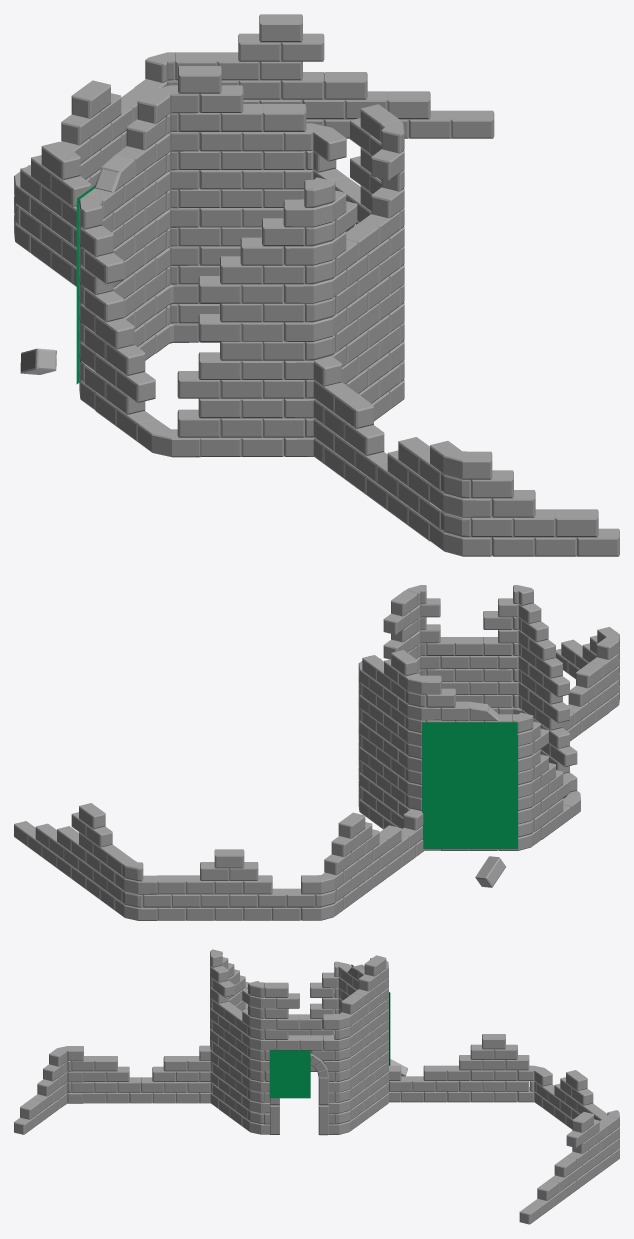
The model's file is TowerShapeTry2.fbx.
The picture shows the model from 3 angles, top to bottom: view 1: azimuth 30°, elevation 25°; view 2: azimuth 150°, elevation 25°; view 3: azimuth 270°, elevation 25°; orthographic projection. The views are drawn at different scales.
Visible parts, largest first — view 1: CornerStone (×21), pCube18 (×18), pCube21 (×15), pCube20 (×13), pCube22 (×14), pCube19 (×12), CornerStone2 (×2), pCube32, pCube37, pCube36, pCube34, pCube29 (+2 smaller); view 2: mMossPlane, CornerStone (×10), pCube20 (×7), pCube19 (×5), pCube21 (×4), pCube22 (×4), pCube18 (×2), pCube29, pCube32; view 3: CornerStone (×7), mMossPlane1, pCube20, pCube19, pCube21.
Part boxes in pixels (x1,y1,x2,y2): CornerStone (×21): [79, 85, 492, 556]; pCube18 (×18): [52, 72, 535, 556]; pCube21 (×15): [41, 52, 555, 537]; pCube20 (×13): [61, 14, 598, 537]; pCube22 (×14): [178, 66, 513, 537]; pCube19 (×12): [95, 33, 576, 556]; CornerStone2 (×2): [145, 52, 335, 207]; pCube32: [71, 80, 110, 118]; pCube37: [281, 33, 324, 61]; pCube36: [281, 72, 324, 99]; pCube34: [577, 528, 619, 556]; pCube29: [20, 348, 56, 374]; mMossPlane: [422, 722, 517, 848]; CornerStone (×10): [115, 598, 619, 920]; pCube20 (×7): [79, 590, 577, 880]; pCube19 (×5): [157, 612, 595, 894]; pCube21 (×4): [258, 637, 602, 907]; pCube22 (×4): [200, 637, 454, 907]; pCube18 (×2): [186, 702, 498, 894]; pCube29: [475, 856, 506, 887]; pCube32: [214, 849, 244, 868]; CornerStone (×7): [49, 988, 552, 1086]; mMossPlane1: [269, 1050, 310, 1098]; pCube20: [264, 982, 288, 997]; pCube19: [423, 1065, 447, 1080]; pCube21: [163, 1056, 187, 1071].
Bounding box in the file's own units: 826 × 391 × 1335.
